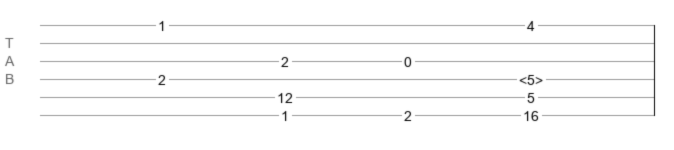0: (404, 54, 412, 64)
1: (158, 18, 166, 28), (281, 108, 289, 118)
12: (277, 90, 293, 100)
16: (523, 108, 539, 118)
2: (158, 72, 166, 82), (281, 54, 289, 64), (404, 108, 412, 118)
4: (527, 18, 535, 28)
5: (527, 90, 535, 100)
harmonic: (519, 72, 543, 82)
